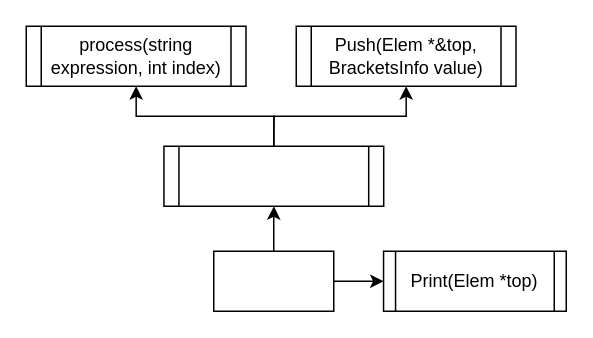
The diagram is 593 pixels wide and 338 high, and some of its shapes have lost their labels. The shapes that lost their labels are listed below. From the top down, each one's centre as x and y in pixels, then its label:
[273,175]: ReadFromFile(Elem *&top, char *fname)
[273,280]: main()
